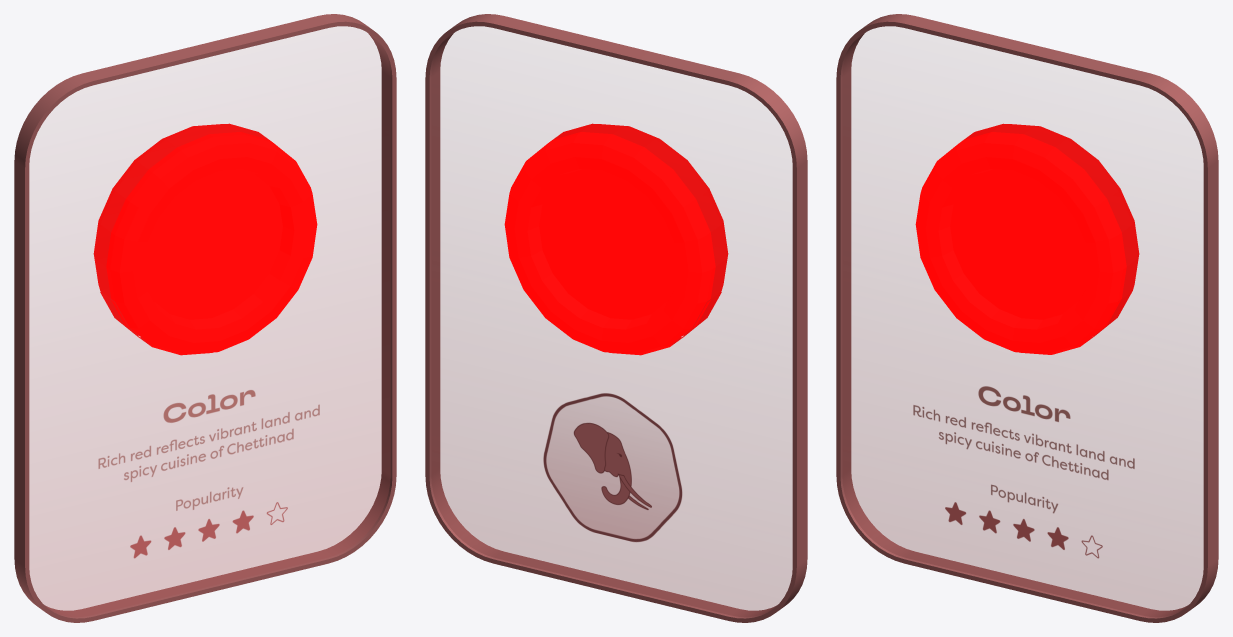
Rendered from color.glb.
3 renders of one model, left to right at view 1: azimuth 30°, elevation 25°; view 2: azimuth 150°, elevation 25°; view 3: azimuth 330°, elevation 25°, orthographic.
Parts seen in each view (by area): view 1: Bhai_Card.tex.019, Coin.001, Bhai_Card.out.019; view 2: Bhai_Card.tex.019, Coin.001, Bhai_Card.out.019; view 3: Bhai_Card.tex.019, Coin.001, Bhai_Card.out.019.
Boxes of the visible parts, x1,y1,x2,y2 form: Bhai_Card.tex.019: (29,146,390,616); Coin.001: (93,123,317,355); Bhai_Card.out.019: (14,14,396,622); Bhai_Card.tex.019: (431,146,792,616); Coin.001: (504,123,728,355); Bhai_Card.out.019: (425,14,807,622); Bhai_Card.tex.019: (842,146,1203,616); Coin.001: (915,123,1139,354); Bhai_Card.out.019: (836,14,1218,622).
Bounding box in the file's own units: 1.81 × 2.51 × 0.25.
Materials: 4 (2 with a texture image).
